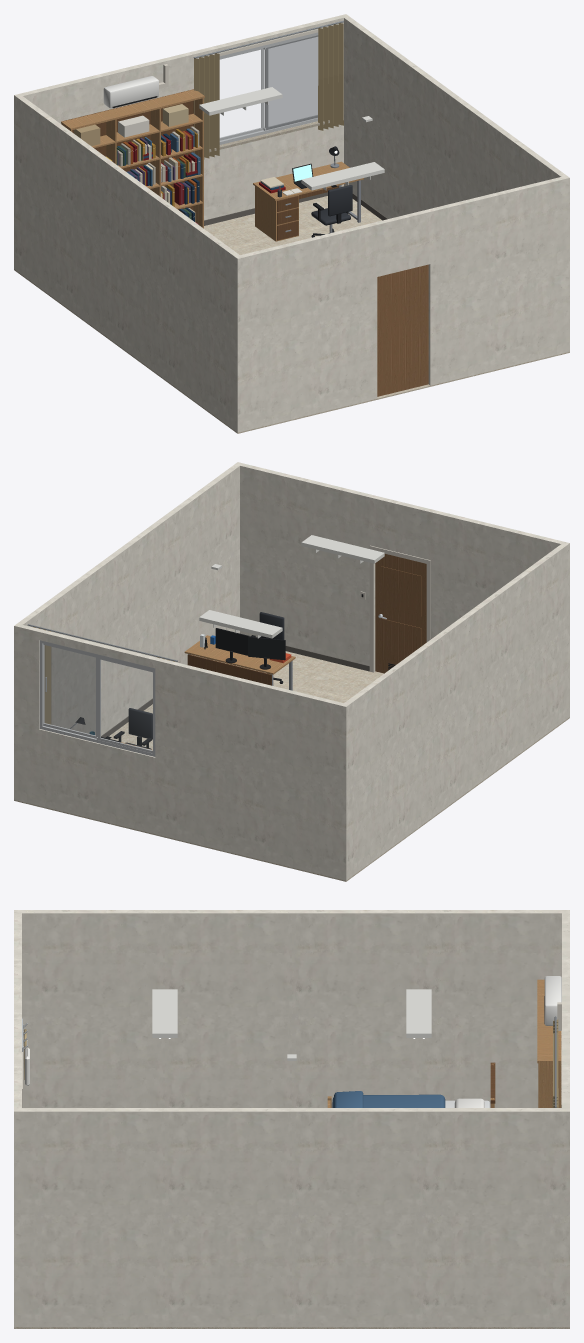
File: dorm_interior.glb
3 views of the same model, one above another, from view 1: azimuth 30°, elevation 25°; view 2: azimuth 150°, elevation 25°; view 3: azimuth 270°, elevation 25° (orthographic). The views are drawn at different scales.
Visible parts, largest first — view 1: WALL_front_wall, WALL_left_wall, WALL_right_wall, WALL_back_wall, dorm_wood, WALL_front_door, dorm_items, dorm_curtain, dorm_floor, WALL_back_screen, WALL_back_glass, dorm_fixtures (+5 smaller); view 2: WALL_back_wall, WALL_left_wall, WALL_front_wall, WALL_right_wall, WALL_back_glass, WALL_front_door, dorm_floor, WALL_back_screen, WALL_back_alu, dorm_fixtures, dorm_black, WALL_front_trim (+5 smaller); view 3: WALL_right_wall, WALL_left_wall, WALL_back_wall, WALL_front_wall, dorm_fixtures, dorm_wood, dorm_duvet, dorm_floor, dorm_ac, dorm_curtain.
Part boxes in pixels (x1,y1,x2,y2): WALL_front_wall: (234,175,569,432); WALL_left_wall: (14,95,243,432); WALL_right_wall: (342,14,569,352); WALL_back_wall: (14,14,348,268); dorm_wood: (61,89,363,241); WALL_front_door: (377,264,428,396); dorm_items: (74,104,336,224); dorm_curtain: (194,23,343,159); dorm_floor: (14,196,569,433); WALL_back_screen: (266,35,317,129); WALL_back_glass: (220,50,260,137); dorm_fixtures: (199,87,384,190); WALL_back_wall: (14,623,349,880); WALL_left_wall: (340,543,569,880); WALL_front_wall: (235,462,569,716); WALL_right_wall: (14,463,242,800); WALL_back_glass: (44,645,152,749); WALL_front_door: (375,554,426,673); dorm_floor: (14,651,569,881); WALL_back_screen: (45,645,95,734); WALL_back_alu: (39,640,155,756); dorm_fixtures: (199,535,384,638); dorm_black: (75,628,285,748); WALL_front_trim: (360,545,430,672); WALL_right_wall: (14,1108,569,1327); WALL_left_wall: (14,910,569,1107); WALL_back_wall: (562,910,569,1327); WALL_front_wall: (14,910,21,1327); dorm_fixtures: (152,989,431,1060); dorm_wood: (327,979,561,1107); dorm_duvet: (332,1091,445,1107); dorm_floor: (14,1327,569,1328); dorm_ac: (544,976,561,1025); dorm_curtain: (24,1019,558,1107).
Size of the model in its own units: 6 by 3.02 by 7.
Materials: 28 (6 with a texture image).
